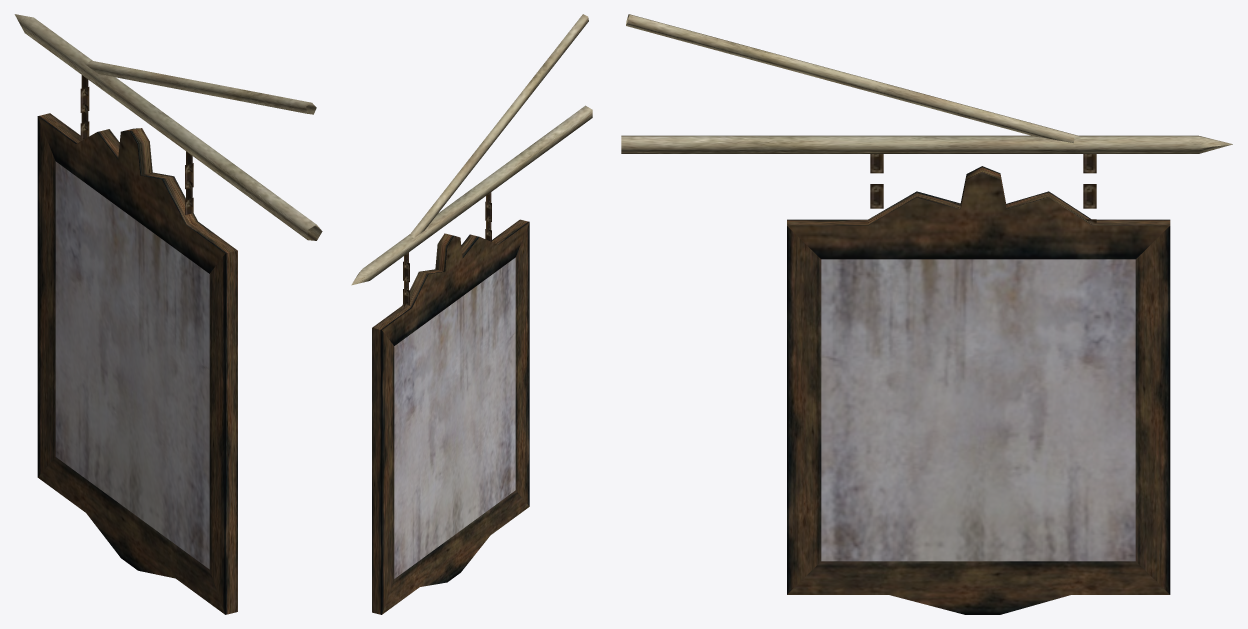
Rendered from sign1_eng_c_frame.fbx.
The picture shows the model from 3 angles, left to right: view 1: azimuth 30°, elevation 25°; view 2: azimuth 150°, elevation 25°; view 3: azimuth 270°, elevation 25°; orthographic projection. The views are drawn at different scales.
Visible parts, largest first — view 1: sign, support_horizontal, support_diagonal; view 2: sign, support_horizontal, support_diagonal; view 3: sign, support_horizontal, support_diagonal.
Part boxes in pixels (x1=…): sign: x1=37, y1=113, x2=237, y2=614; support_horizontal: x1=14, y1=14, x2=322, y2=240; support_diagonal: x1=85, y1=60, x2=316, y2=114; sign: x1=372, y1=219, x2=529, y2=614; support_horizontal: x1=351, y1=105, x2=592, y2=285; support_diagonal: x1=409, y1=14, x2=588, y2=237; sign: x1=787, y1=166, x2=1170, y2=614; support_horizontal: x1=621, y1=135, x2=1232, y2=153; support_diagonal: x1=626, y1=14, x2=1079, y2=142.
Size of the model in its own units: 19.95 by 697 by 646.
2 materials, 2 textured.
